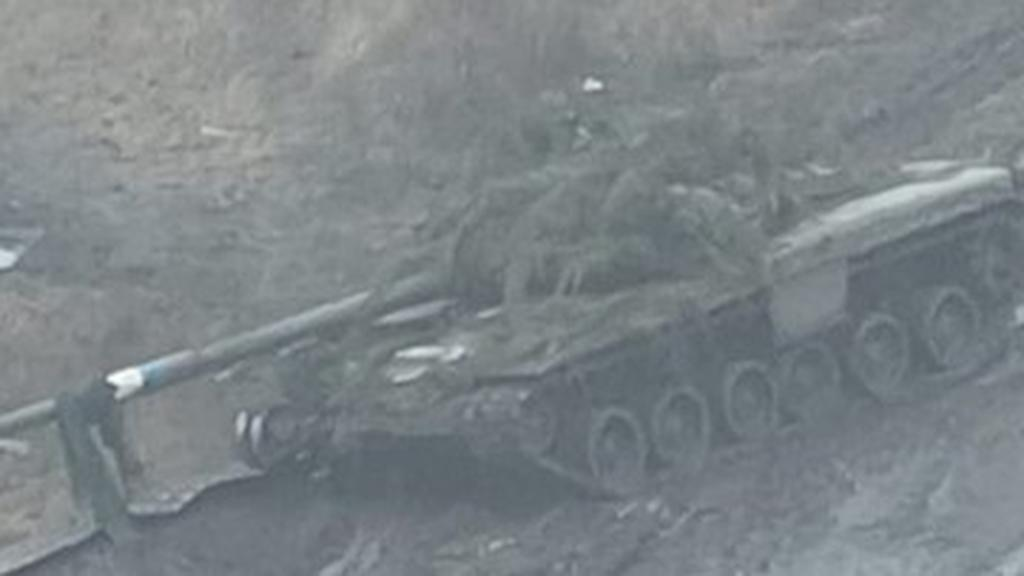TANK: (90, 96, 1020, 516)
